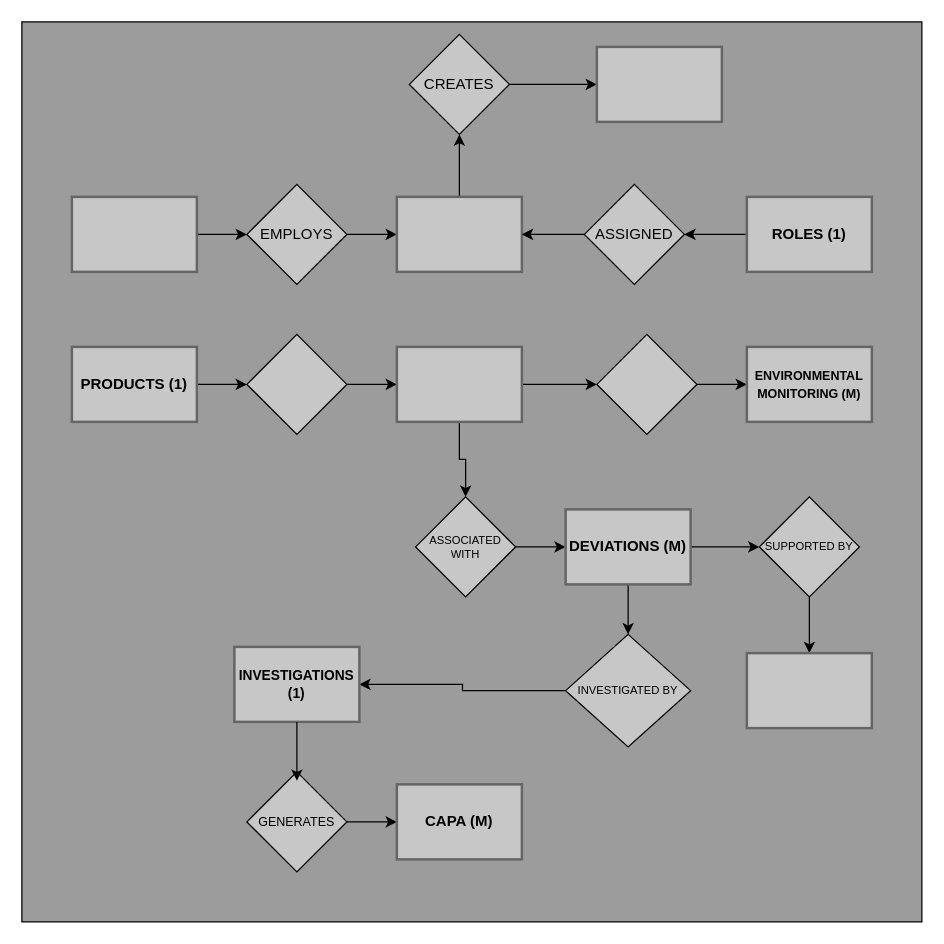
Some shapes in this 944 by 944 pixel diagram are drawn without their labels. The shapes that lost their labels are listed below. From the top down, each one's box as (x1, y1, x2, y2) in pixels, then its label:
(595, 45, 722, 122): AUDIT TRAIL (M)
(70, 195, 198, 272): SITE (1)
(395, 195, 522, 272): USERS (M)
(246, 333, 347, 434): PRODUCES
(395, 345, 522, 422): BATCH (M)
(596, 333, 697, 434): MONITORED BY
(745, 651, 872, 729): ATTACHMENTS (M)
